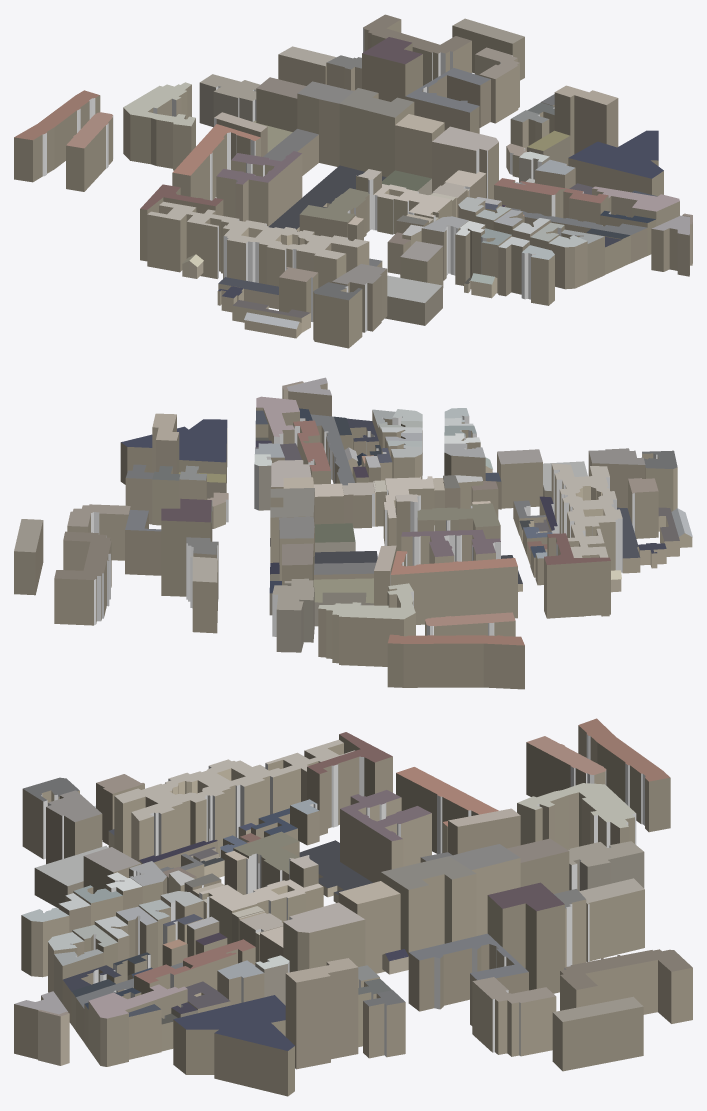
3 renders of one model, top to bottom at view 1: azimuth 30°, elevation 25°; view 2: azimuth 150°, elevation 25°; view 3: azimuth 270°, elevation 25°, orthographic. The views are drawn at different scales.
Parts seen in each view (by area): view 1: tuile; view 2: tuile; view 3: tuile.
Boxes of the visible parts, <box> form: tuile: <box>14,14,692,348</box>; tuile: <box>14,377,692,689</box>; tuile: <box>14,718,692,1096</box>.
Size of the model in its own units: 300 by 49.66 by 285.
